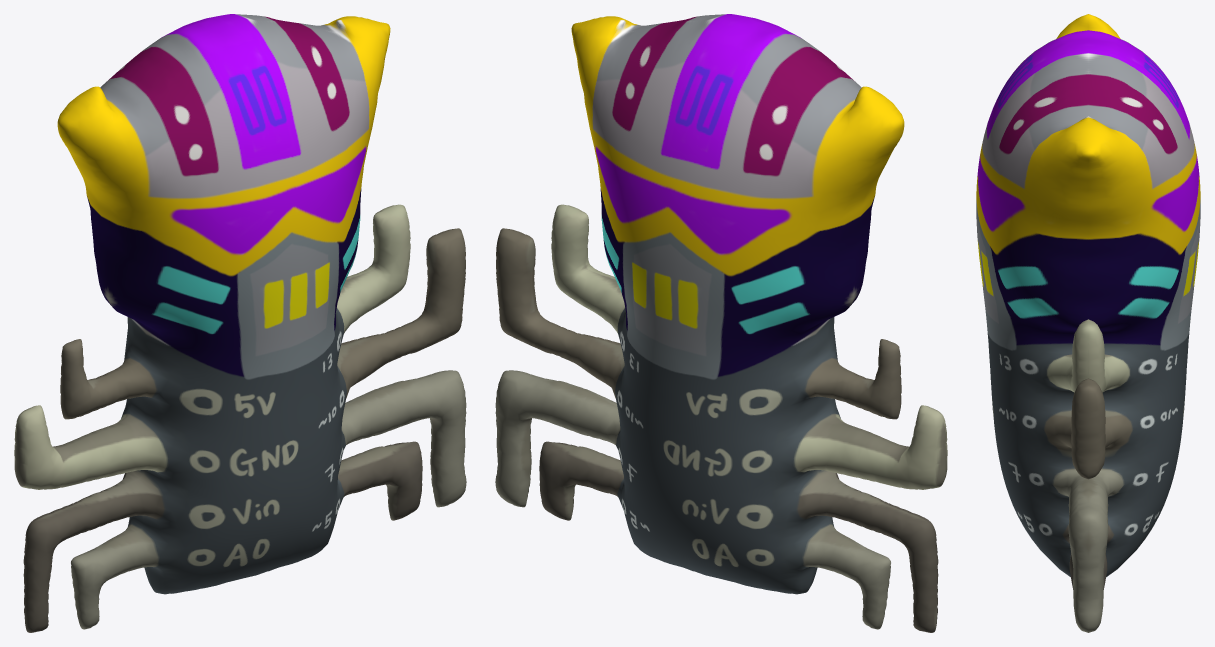
File: Arduinobot0.b2bd6320.glb
3 views of the same model, side by side, from view 1: azimuth 30°, elevation 25°; view 2: azimuth 150°, elevation 25°; view 3: azimuth 270°, elevation 25° (orthographic). The views are drawn at different scales.
Size of the model in its own units: 5.34 by 6.51 by 2.53.
Materials: 1 (1 with a texture image).
